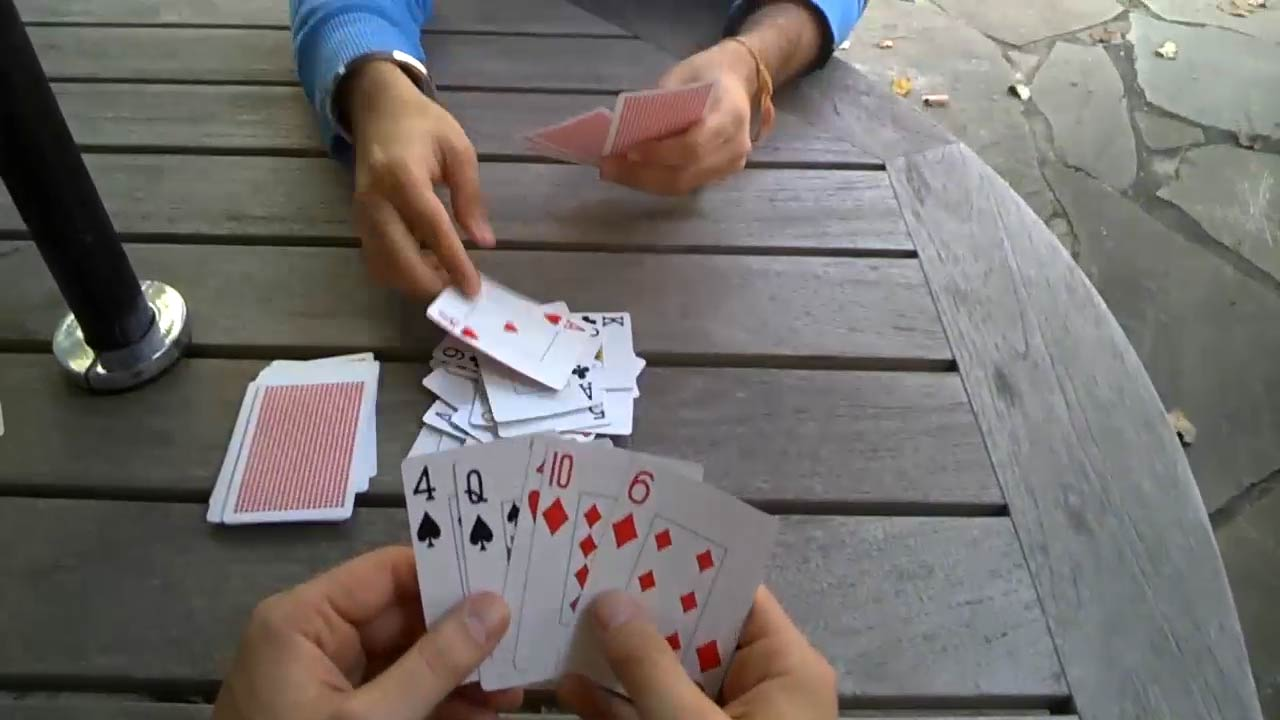hand: (193, 552, 519, 717), (555, 579, 839, 715), (352, 88, 490, 298), (604, 35, 754, 196)
